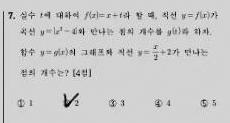choice: (62, 92, 74, 109)
not-choice: (198, 97, 209, 107), (15, 98, 25, 108), (107, 98, 117, 108), (153, 98, 163, 108)
